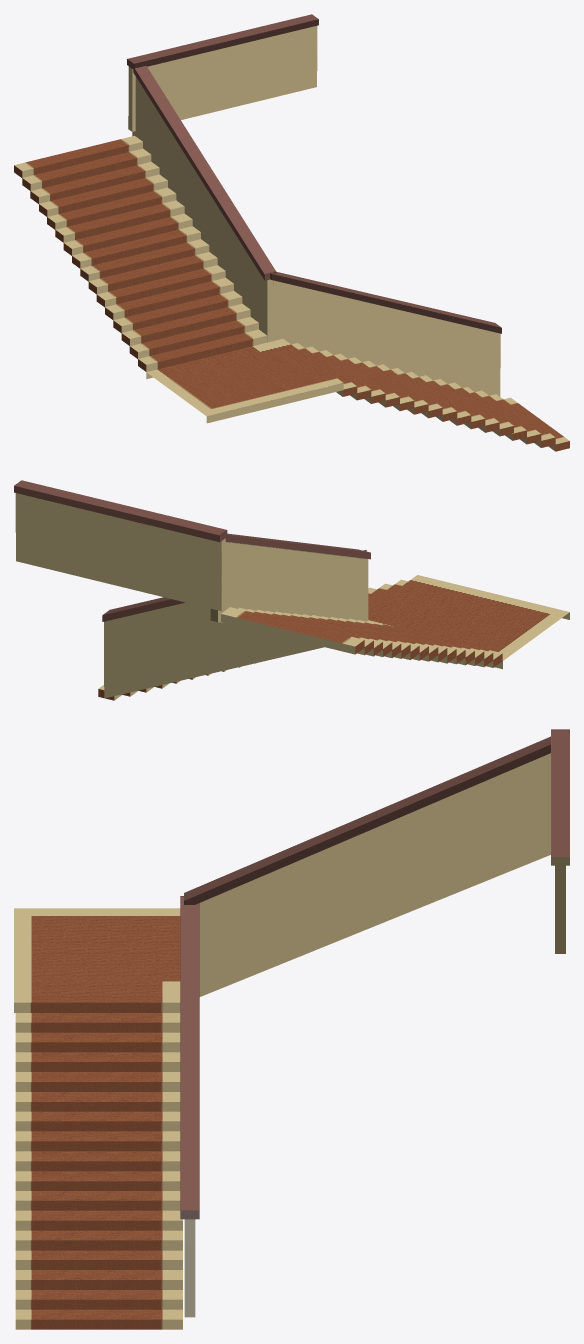
File: School Stairs.fbx
3 renders of one model, top to bottom at view 1: azimuth 30°, elevation 25°; view 2: azimuth 150°, elevation 25°; view 3: azimuth 270°, elevation 25°, orthographic. The views are drawn at different scales.
Visible parts, largest first — view 1: CombinedStairs; view 2: CombinedStairs; view 3: CombinedStairs.
Part boxes in pixels (bbox=[...]): CombinedStairs: bbox=[14, 14, 569, 451]; CombinedStairs: bbox=[14, 480, 569, 700]; CombinedStairs: bbox=[14, 729, 569, 1329].
Bounding box in the file's own units: 817 × 656 × 767.
Materials: 4 (2 with a texture image).
